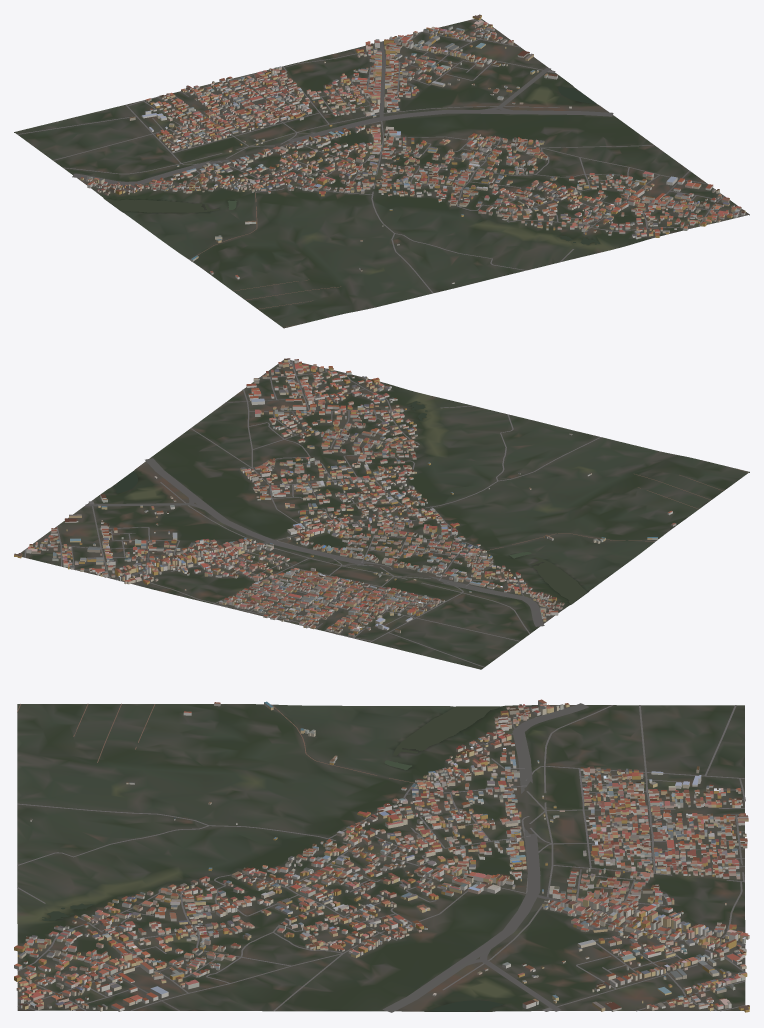
The picture shows the model from 3 angles, top to bottom: view 1: azimuth 30°, elevation 25°; view 2: azimuth 150°, elevation 25°; view 3: azimuth 270°, elevation 25°; orthographic projection. The views are drawn at different scales.
Visible parts, largest first — view 1: ground, buildings, roads, water; view 2: ground, buildings, roads, water; view 3: ground, buildings, roads, water.
Boxes of the visible parts, x1,y1,x2,y2 form: ground: (14, 19, 749, 328); buildings: (80, 14, 745, 283); roads: (17, 19, 743, 327); water: (105, 86, 599, 244); ground: (21, 360, 749, 669); buildings: (14, 358, 676, 636); roads: (24, 360, 748, 667); water: (113, 401, 587, 604); ground: (17, 704, 745, 1011); buildings: (14, 699, 749, 1012); roads: (17, 703, 745, 1012); water: (42, 706, 502, 1011).
Size of the model in its own units: 1415 by 25.92 by 1418.
